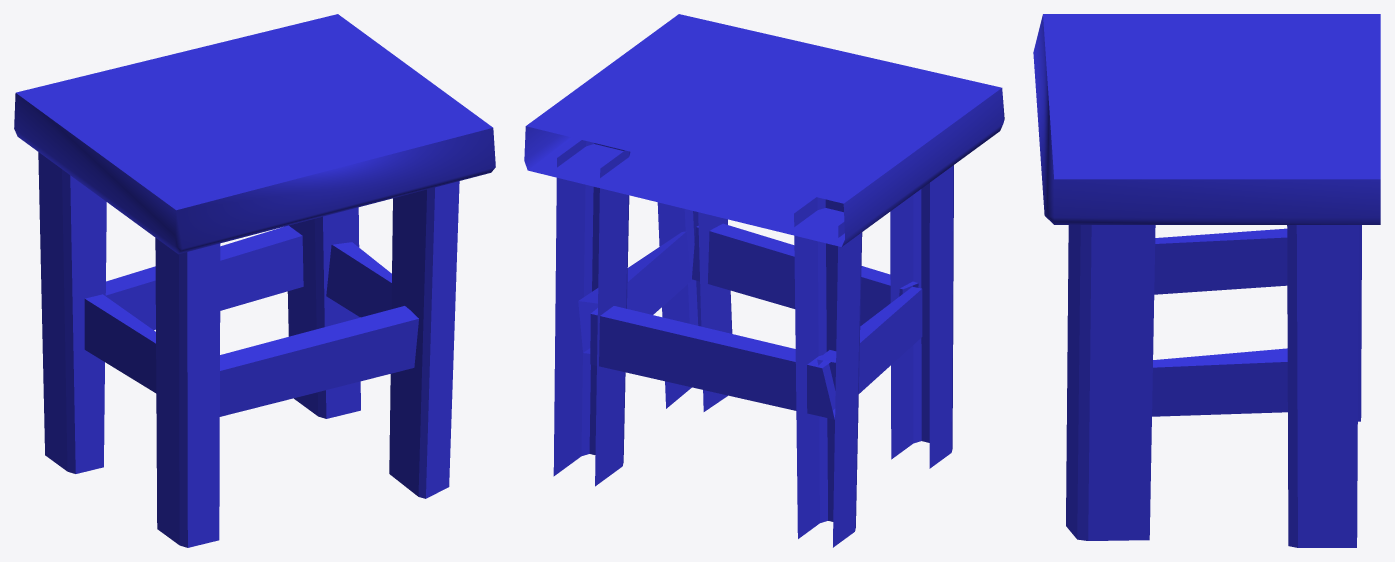
File: Stool.FBX
3 views of the same model, side by side, from view 1: azimuth 30°, elevation 25°; view 2: azimuth 150°, elevation 25°; view 3: azimuth 270°, elevation 25° (orthographic). The views are drawn at different scales.
Visible parts, largest first — view 1: stool; view 2: stool; view 3: stool.
Boxes of the visible parts, x1=… form: stool: x1=14, y1=14, x2=495, y2=547; stool: x1=524, y1=14, x2=1004, y2=547; stool: x1=1033, y1=14, x2=1380, y2=547.
Size of the model in its own units: 2.68 by 2.84 by 2.36.
